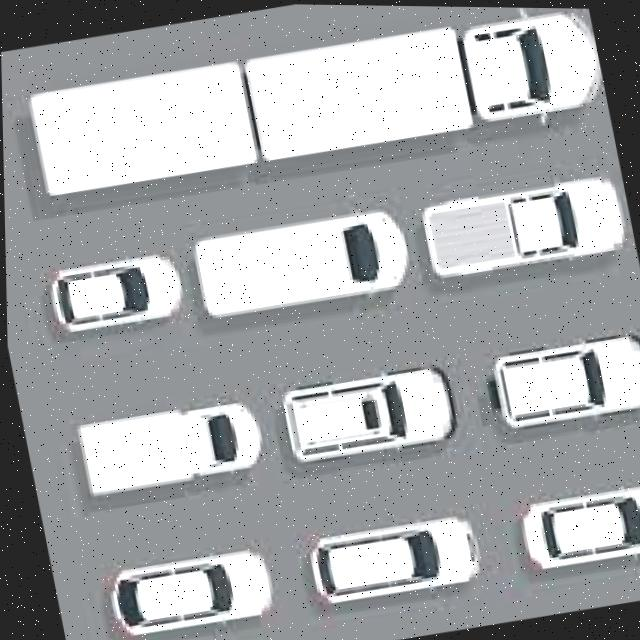truck: (24, 0, 608, 202), (188, 201, 417, 323), (417, 167, 632, 281), (65, 391, 268, 502), (276, 360, 458, 465), (484, 325, 640, 432)
